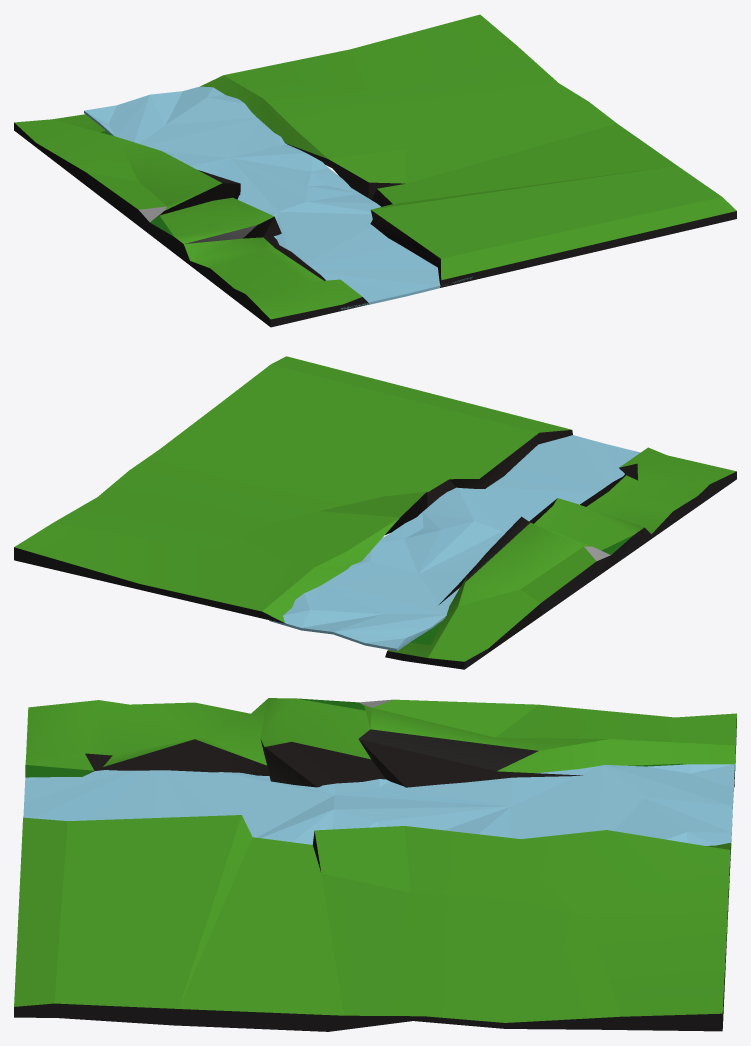
File: Terrain_002.FBX
3 renders of one model, top to bottom at view 1: azimuth 30°, elevation 25°; view 2: azimuth 150°, elevation 25°; view 3: azimuth 270°, elevation 25°, orthographic. The views are drawn at different scales.
Visible parts, largest first — view 1: TopRiverBank, River, BottomRiverBank; view 2: TopRiverBank, River, BottomRiverBank; view 3: TopRiverBank, BottomRiverBank, River.
Part boxes in pixels (box(x1,y1,x2,y2)): TopRiverBank: box(200, 14, 736, 287); River: box(84, 86, 472, 309); BottomRiverBank: box(14, 114, 369, 327); TopRiverBank: box(14, 356, 572, 624); River: box(269, 435, 640, 651); BottomRiverBank: box(385, 447, 736, 669); TopRiverBank: box(14, 815, 731, 1031); BottomRiverBank: box(25, 698, 736, 787); River: box(23, 764, 734, 854).
Size of the model in its own units: 612 by 50.63 by 612.
